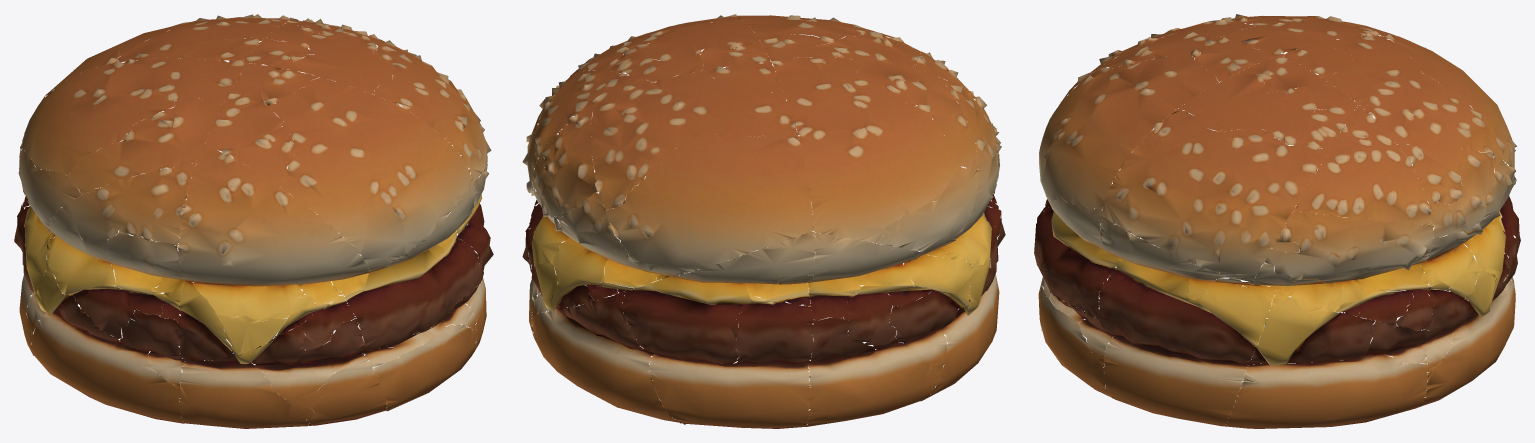
The model's file is burger.glb.
The picture shows the model from 3 angles, left to right: view 1: azimuth 30°, elevation 25°; view 2: azimuth 150°, elevation 25°; view 3: azimuth 270°, elevation 25°; orthographic projection.
Visible parts, largest first — view 1: tripo_node_23b00bf8-526d-4f6c-84c2-ec8a180b790f; view 2: tripo_node_23b00bf8-526d-4f6c-84c2-ec8a180b790f; view 3: tripo_node_23b00bf8-526d-4f6c-84c2-ec8a180b790f.
Boxes of the visible parts, x1,y1,x2,y2 form: tripo_node_23b00bf8-526d-4f6c-84c2-ec8a180b790f: (14, 14, 493, 428); tripo_node_23b00bf8-526d-4f6c-84c2-ec8a180b790f: (522, 14, 1005, 428); tripo_node_23b00bf8-526d-4f6c-84c2-ec8a180b790f: (1034, 14, 1520, 428).
Size of the model in its own units: 1 by 0.6354 by 0.9926.
1 material, 1 textured.
